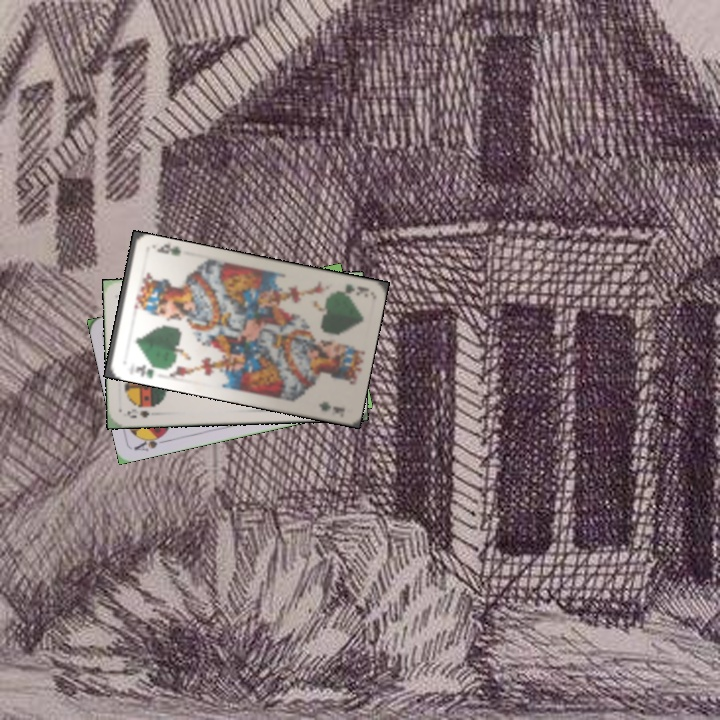GK: (329, 280, 371, 298), (131, 361, 162, 380)
SA: (130, 429, 171, 454)
SO: (123, 407, 152, 420)
